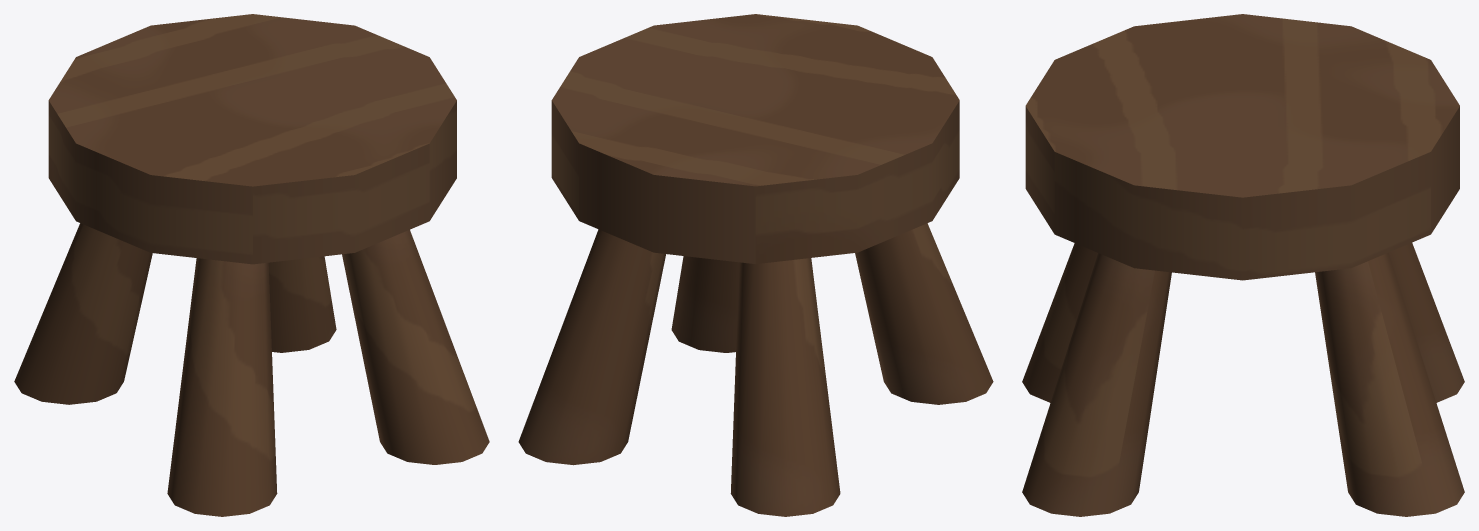
The model's file is MSH_Stool.fbx.
The picture shows the model from 3 angles, left to right: view 1: azimuth 30°, elevation 25°; view 2: azimuth 150°, elevation 25°; view 3: azimuth 270°, elevation 25°; orthographic projection. The views are drawn at different scales.
Parts seen in each view (by area): view 1: MSH_Stool; view 2: MSH_Stool; view 3: MSH_Stool.
Boxes of the visible parts, bbox=[...] form: MSH_Stool: bbox=[14, 14, 489, 516]; MSH_Stool: bbox=[518, 14, 993, 516]; MSH_Stool: bbox=[1022, 14, 1464, 516].
Size of the model in its own units: 65.96 by 55.53 by 67.21.
